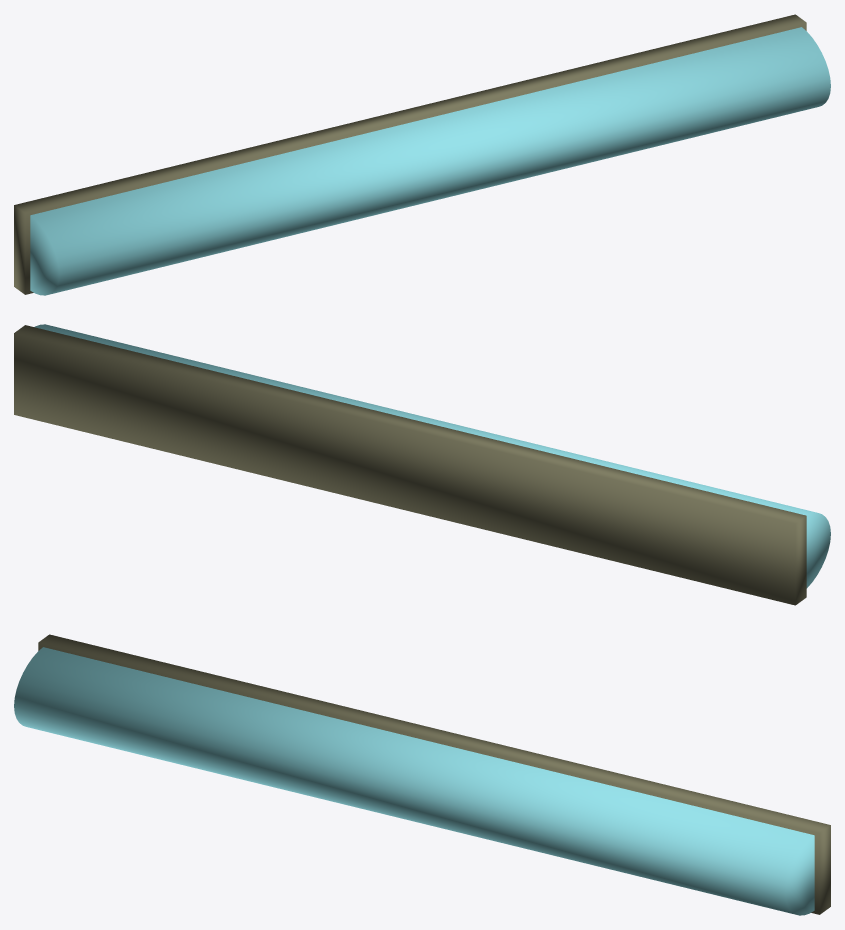
Rendered from Neonlampe_Wand.fbx.
3 renders of one model, top to bottom at view 1: azimuth 30°, elevation 25°; view 2: azimuth 150°, elevation 25°; view 3: azimuth 330°, elevation 25°, orthographic.
Parts seen in each view (by area): view 1: Lampe; view 2: Lampe; view 3: Lampe.
Part boxes in pixels (box(x1,y1,x2,y2)): Lampe: box(14, 14, 830, 295); Lampe: box(14, 324, 830, 605); Lampe: box(14, 634, 830, 915).
Bounding box in the file's own units: 150 × 15 × 13.46.
